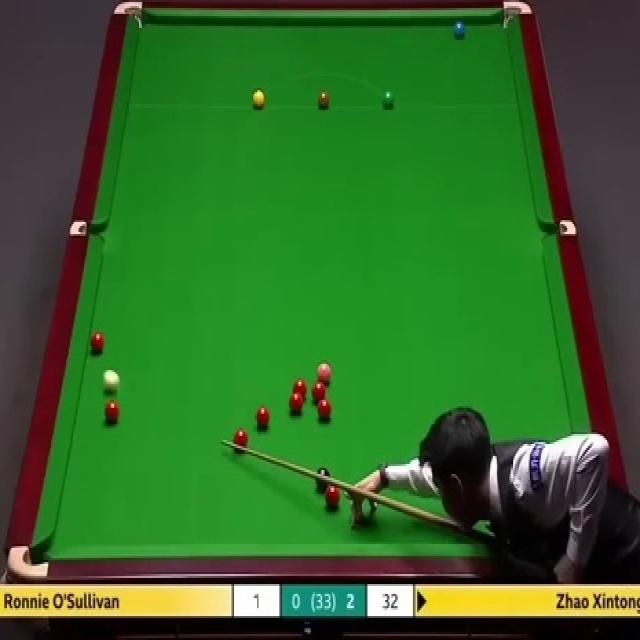black-ball: (314, 465, 331, 490)
blue-ball: (454, 20, 466, 42)
brown-ball: (318, 90, 331, 110)
green-ball: (381, 90, 395, 111)
pink-ball: (316, 360, 332, 386)
red-ball: (287, 392, 305, 420), (89, 332, 106, 356), (233, 428, 249, 453), (324, 484, 340, 508), (254, 405, 270, 429), (312, 380, 327, 404), (292, 378, 307, 402), (318, 399, 332, 423), (105, 401, 118, 424)
white-ball: (102, 368, 121, 392)
yellow-ball: (251, 89, 266, 110)
